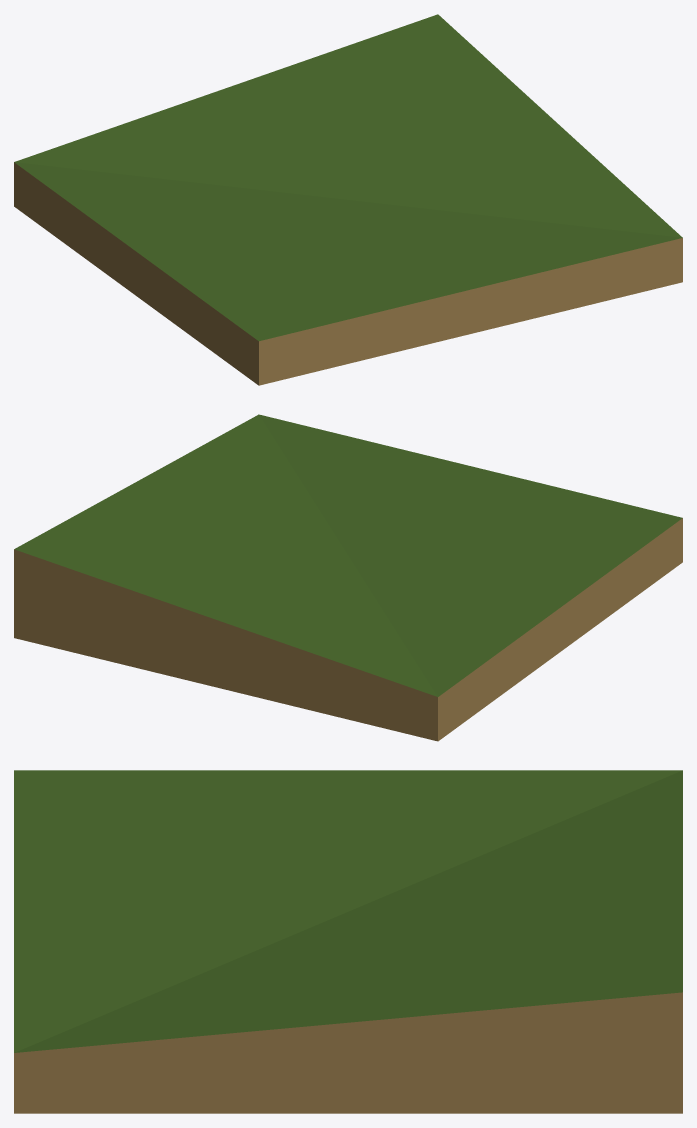
Rendered from Terrain_Modular_Tiles_Grass_Dirt_Ramp_Corner_Small_02.fbx.
The picture shows the model from 3 angles, top to bottom: view 1: azimuth 30°, elevation 25°; view 2: azimuth 150°, elevation 25°; view 3: azimuth 270°, elevation 25°; orthographic projection. The views are drawn at different scales.
Parts seen in each view (by area): view 1: Terrain_Modular_Tiles_Grass_Dirt_Ramp_Corner_Small_02; view 2: Terrain_Modular_Tiles_Grass_Dirt_Ramp_Corner_Small_02; view 3: Terrain_Modular_Tiles_Grass_Dirt_Ramp_Corner_Small_02.
Boxes of the visible parts, x1,y1,x2,y2 form: Terrain_Modular_Tiles_Grass_Dirt_Ramp_Corner_Small_02: (14,14,682,385); Terrain_Modular_Tiles_Grass_Dirt_Ramp_Corner_Small_02: (14,414,682,741); Terrain_Modular_Tiles_Grass_Dirt_Ramp_Corner_Small_02: (14,770,682,1113).
Bounding box in the file's own units: 118 × 23.62 × 118.
